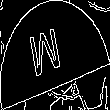M_S: (36, 25, 74, 85)
